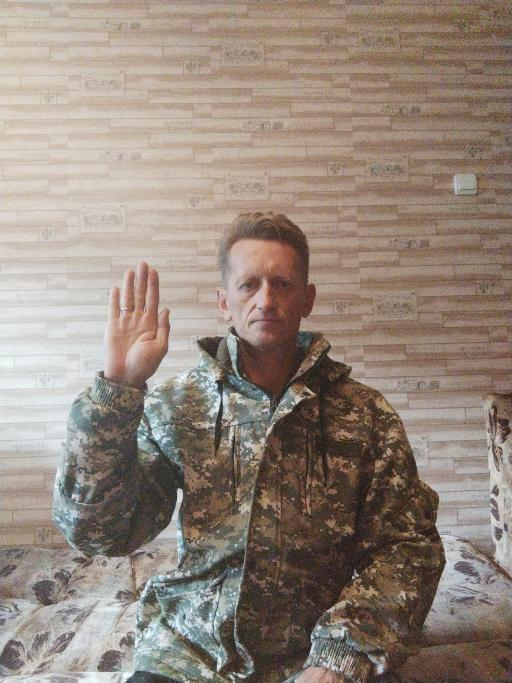stop: (101, 260, 172, 383)
